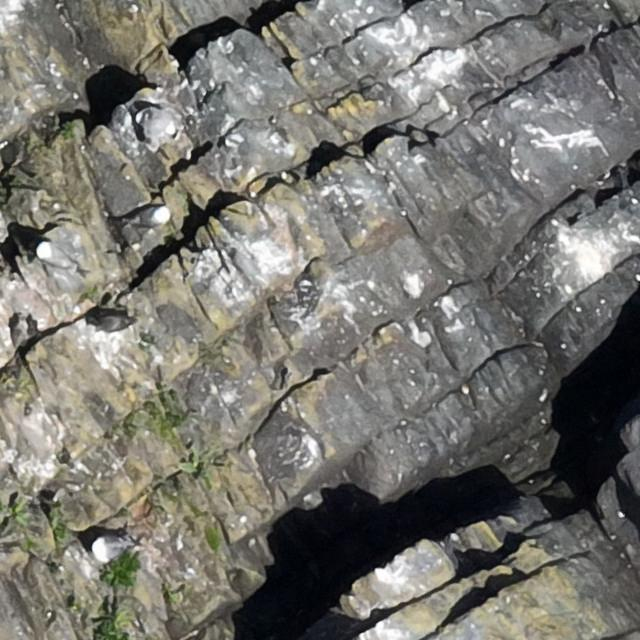umineko: (137, 106, 179, 140), (91, 538, 125, 560), (142, 206, 170, 225), (39, 244, 64, 264)
